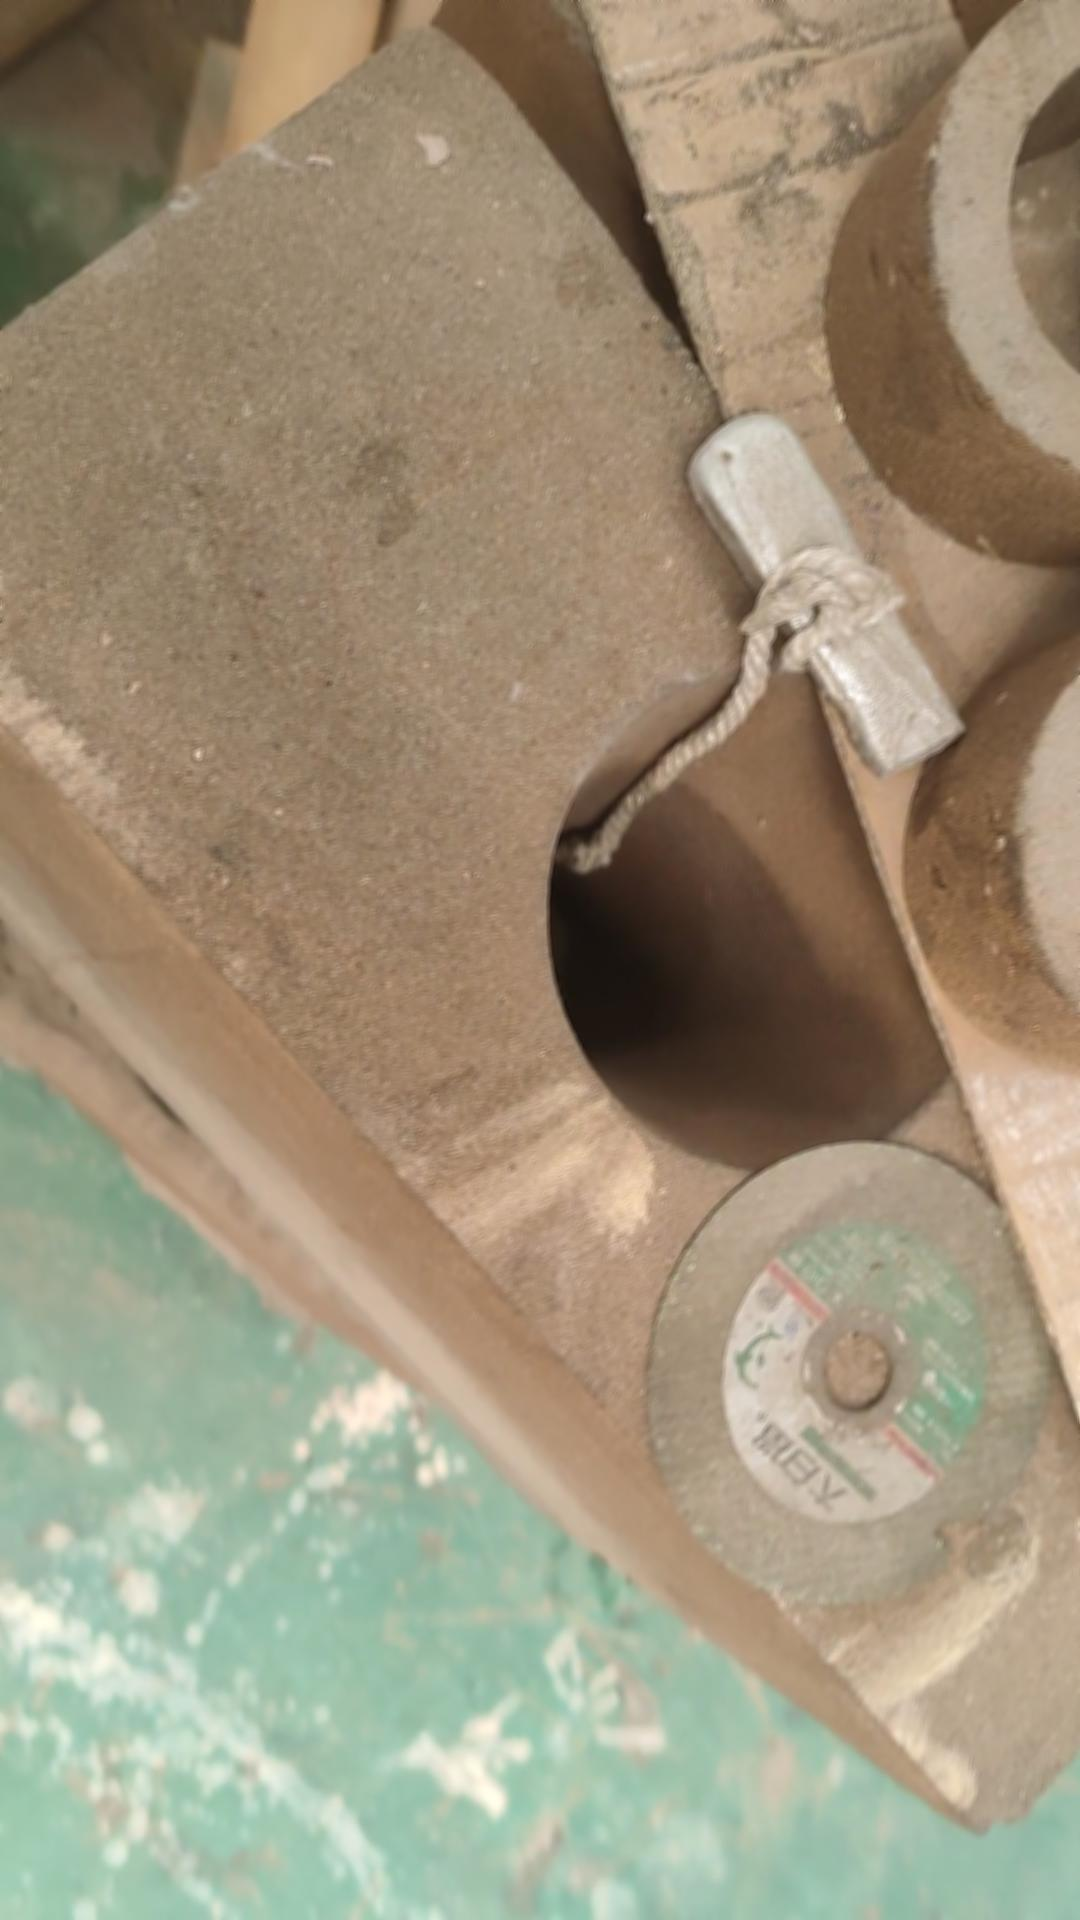pouring hole: (547, 661, 986, 1171)
